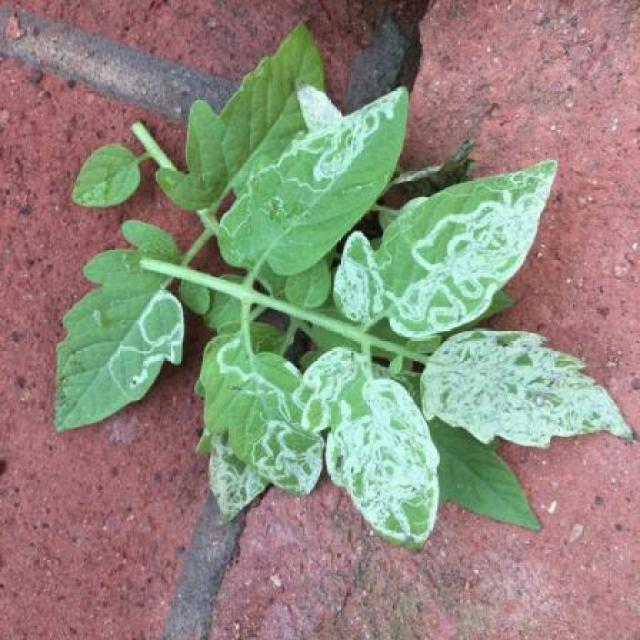Leaf Miner: (333, 156, 558, 346), (222, 84, 412, 275), (299, 347, 446, 552), (55, 220, 192, 430), (420, 330, 640, 450), (198, 327, 323, 492)
